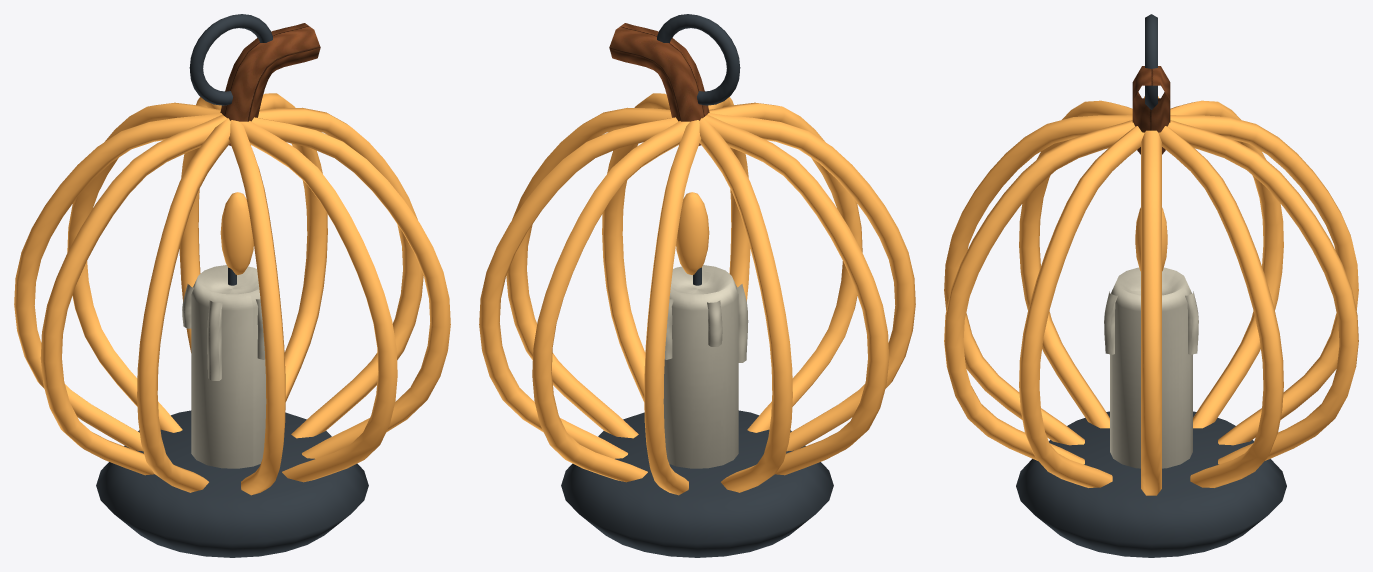
The model's file is hollowwick-halloween-pumpkin-cage-lantern-da3747ff__21621.glb.
The picture shows the model from 3 angles, left to right: view 1: azimuth 30°, elevation 25°; view 2: azimuth 150°, elevation 25°; view 3: azimuth 270°, elevation 25°; orthographic projection.
Visible parts, largest first — view 1: pumpkin-cage-lantern; view 2: pumpkin-cage-lantern; view 3: pumpkin-cage-lantern.
Part boxes in pixels (x1,y1,x2,y2): pumpkin-cage-lantern: [14, 14, 450, 557]; pumpkin-cage-lantern: [479, 14, 915, 557]; pumpkin-cage-lantern: [944, 14, 1358, 557].
Size of the model in its own units: 0.5763 by 0.725 by 0.5508.
Materials: 4 (2 with a texture image).
